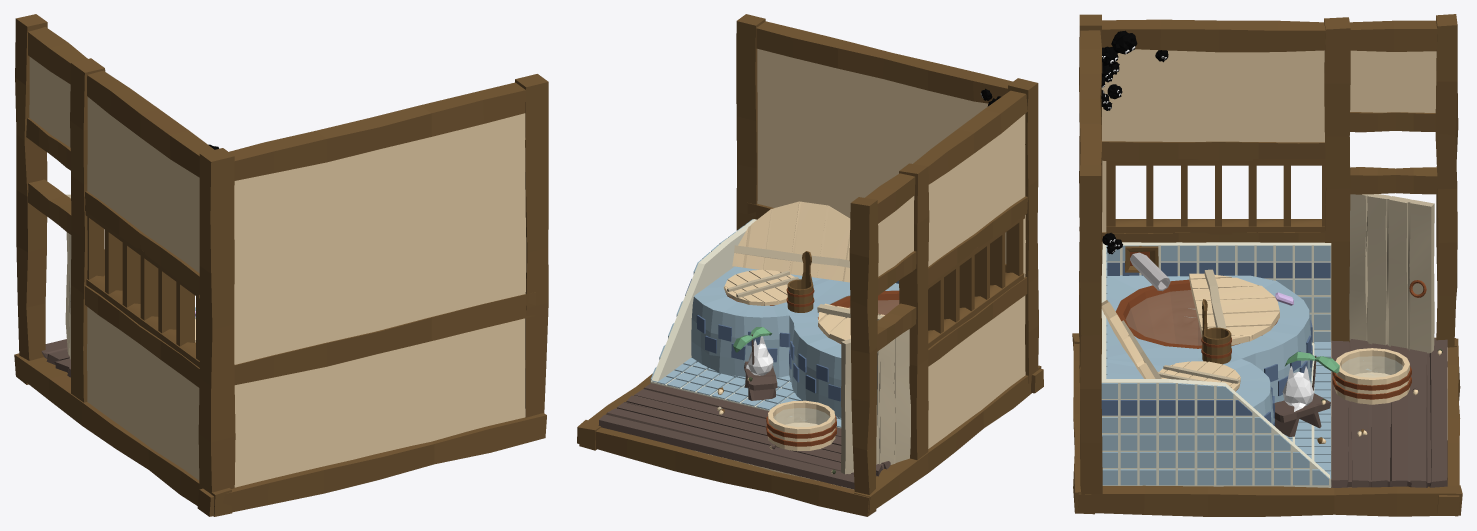
3 renders of one model, left to right at view 1: azimuth 30°, elevation 25°; view 2: azimuth 150°, elevation 25°; view 3: azimuth 270°, elevation 25°, orthographic. The views are drawn at different scales.
Parts seen in each view (by area): view 1: walls_39, beam_corner_16, beam_front.002_13, beam_front.007_19, window_frame_49, beam_door.001_9, beam_front_11, beam_front.001_12, beam_front.003_14, beam_door_8, beam_front.006_18, beam_up_20 (+5 smaller); view 2: walls_39, floor_46, bathtub_ceramic_44, beam_door.001_9, beam_front.002_13, bathtub_cover_big_2_53, beam_front.005_17, window_frame_49, door_41, beam_door_8, beam_front.003_14, beam_front_11 (+18 smaller); view 3: walls_39, floor_46, door_41, ceramic.007_30, beam_front.004_15, wall_ceramic_43, beam_front.003_14, bathtub_ceramic_44, beam_door_8, beam_front_11, window_frame_49, beam_door.001_9 (+29 smaller).
Part boxes in pixels (x1,y1,x2,y2): walls_39: (29, 57, 526, 487); beam_corner_16: (198, 148, 235, 492); beam_front.002_13: (229, 82, 535, 180); beam_front.007_19: (197, 413, 546, 516); window_frame_49: (85, 211, 199, 367); beam_door.001_9: (15, 14, 47, 360); beam_front_11: (515, 74, 548, 417); beam_front.001_12: (234, 292, 535, 384); beam_front.003_14: (27, 27, 214, 177); beam_door_8: (70, 58, 105, 402); beam_front.006_18: (15, 354, 232, 516); beam_up_20: (85, 191, 199, 294); walls_39: (694, 49, 1025, 489); floor_46: (598, 383, 890, 489); bathtub_ceramic_44: (691, 266, 899, 418); beam_door.001_9: (849, 197, 878, 494); beam_front.002_13: (756, 21, 1012, 103); bathtub_cover_big_2_53: (732, 201, 850, 282); beam_front.005_17: (577, 420, 876, 516); window_frame_49: (928, 215, 1024, 348); door_41: (841, 329, 910, 474); beam_door_8: (899, 163, 929, 460); beam_front.003_14: (865, 90, 1027, 223); beam_front_11: (736, 14, 765, 230); walls_39: (1101, 49, 1447, 439); floor_46: (1331, 338, 1447, 487); door_41: (1349, 194, 1434, 353); ceramic.007_30: (1102, 417, 1328, 485); beam_front.004_15: (1078, 485, 1462, 516); wall_ceramic_43: (1101, 242, 1331, 487); beam_front.003_14: (1101, 19, 1437, 52); bathtub_ceramic_44: (1107, 275, 1312, 423); beam_door_8: (1324, 17, 1350, 342); beam_front_11: (1079, 165, 1102, 494); window_frame_49: (1106, 159, 1325, 234); beam_door.001_9: (1435, 14, 1458, 347).
Bounding box in the file's own units: 2.29 × 2.3 × 2.34.
